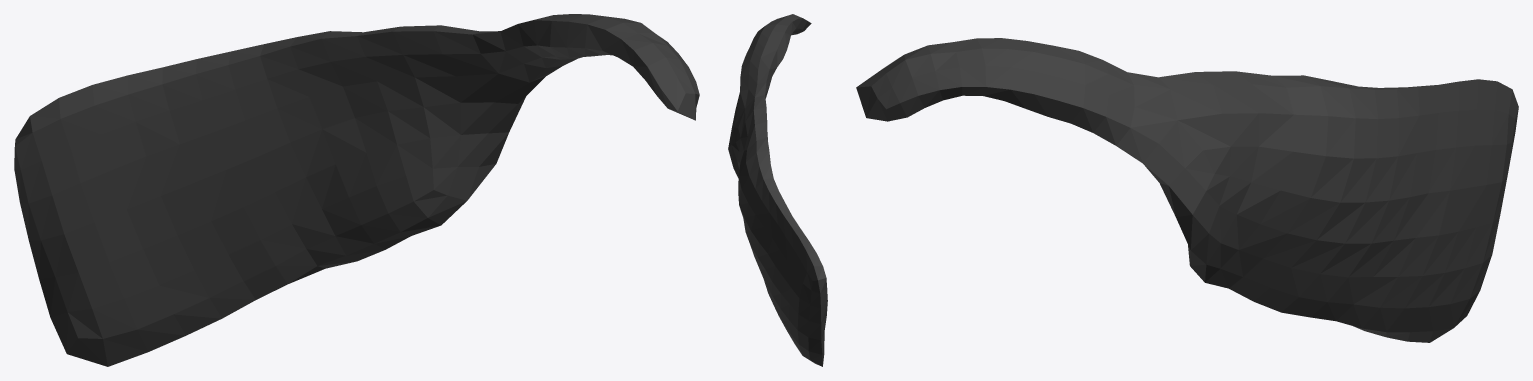
Rendered from Caudal_tibial_ligament_medial_meniscus.glb.
The picture shows the model from 3 angles, left to right: view 1: azimuth 30°, elevation 25°; view 2: azimuth 150°, elevation 25°; view 3: azimuth 270°, elevation 25°; orthographic projection. The views are drawn at different scales.
Visible parts, largest first — view 1: Caudal_tibial_ligament_medial_meniscus; view 2: Caudal_tibial_ligament_medial_meniscus; view 3: Caudal_tibial_ligament_medial_meniscus.
Part boxes in pixels (x1,y1,x2,y2): Caudal_tibial_ligament_medial_meniscus: (14,14,699,366); Caudal_tibial_ligament_medial_meniscus: (728,14,827,366); Caudal_tibial_ligament_medial_meniscus: (856,38,1518,342).
Size of the model in its own units: 0.0579 by 0.0617 by 0.084.
Materials: 1 (1 with a texture image).
